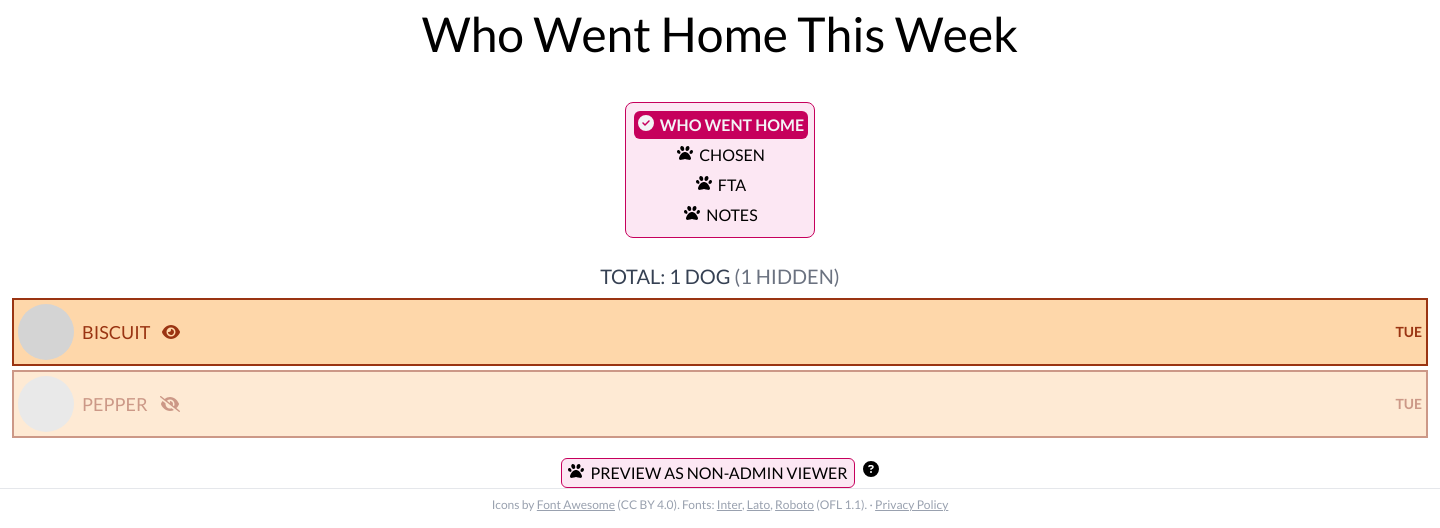
Test case: DashboardsApp hiding › lets admins preview the list as non-admins see it
The image size is (1440, 528).
Check: the text "Pepper" is shown, box [82,390,148,418]
Check: the text "(1 hidden)" is shown, box [730,264,840,288]
Click the text "Preview as non-admin viewer". click: coordinates (719, 473)
box: [590,461,848,485]
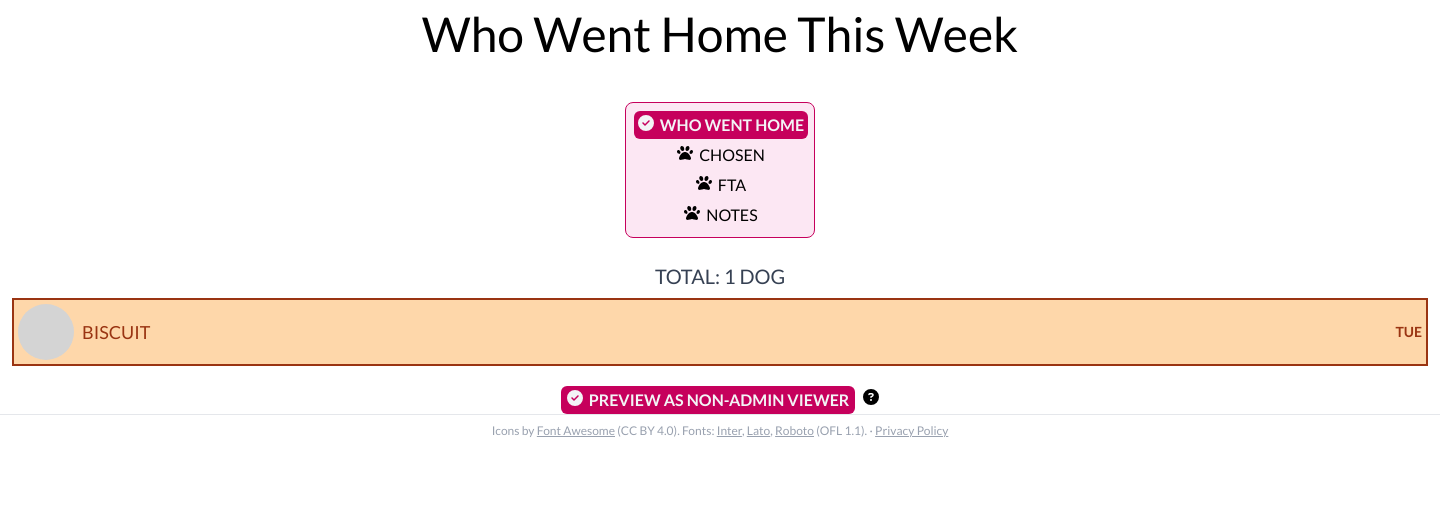
Check: the text "Biscuit" is shown, box [82,318,150,346]
Check: the text "Pepper" is gone
Check: the text "hidden" is gone
